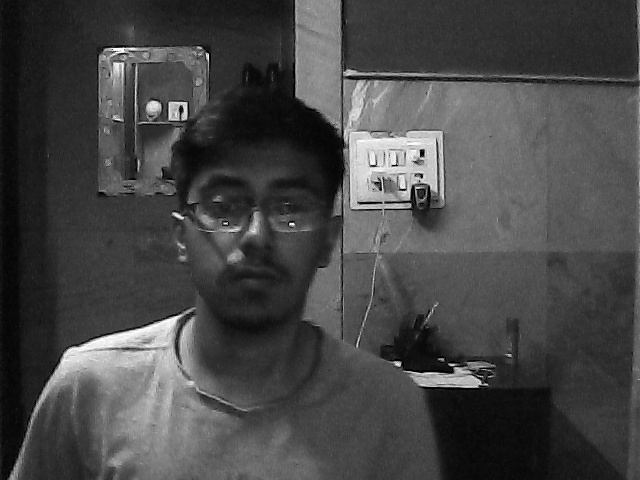nomask: (178, 137, 330, 331)
